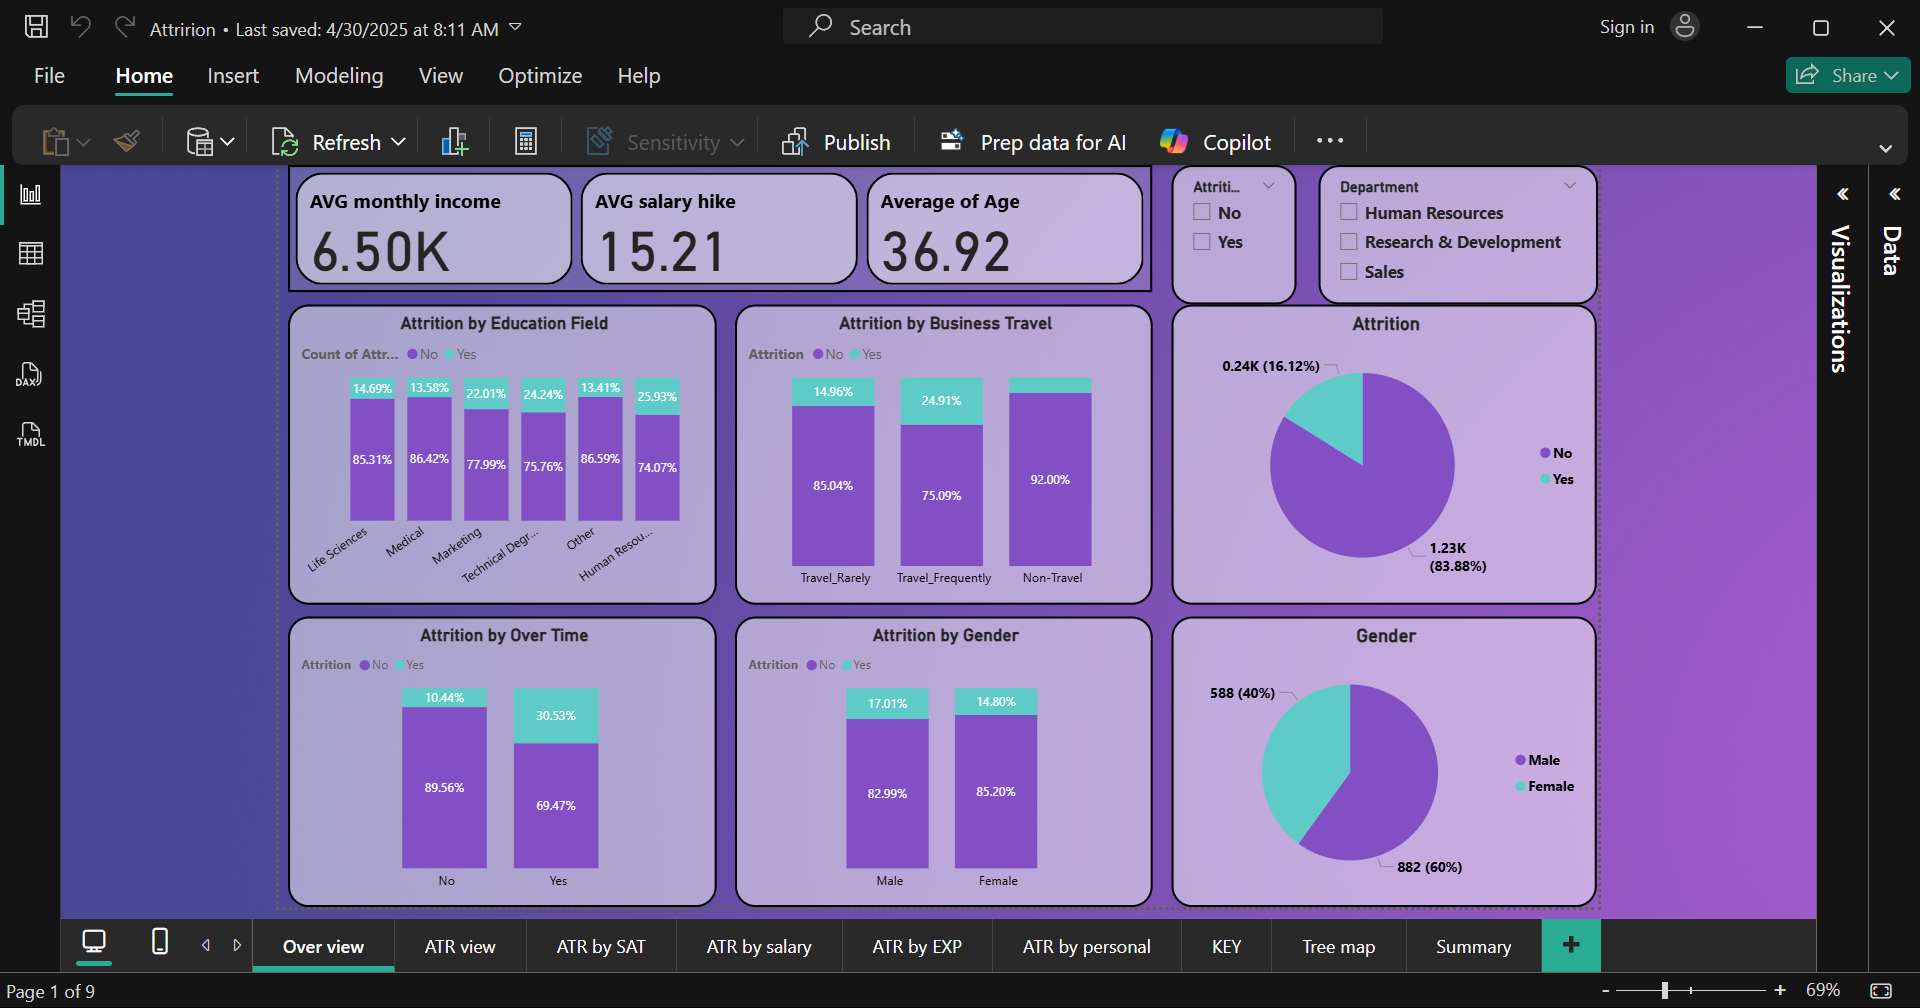

The page's visual inventory and layout, read from the dashboard file:
{"tool":"powerbi","page":{"name":"Over view","canvas":[1280,720],"ordinal":0},"visuals":[{"type":"cardVisual","fields":{"Data":["Avg(clean data.MonthlyIncome)","Avg(clean data.PercentSalaryHike)","Avg(clean data.Age)"]},"box":[9.4,0,838.4,123.1],"z":0},{"type":"pieChart","title":"Attrition","fields":{"Category":["clean data.Attrition"],"Y":["CountNonNull(clean data.Attrition)"]},"box":[866.5,135.6,413,291.4],"z":1000},{"type":"pieChart","title":"Gender","fields":{"Category":["clean data.Gender"],"Y":["CountNonNull(clean data.Gender)"]},"box":[866.5,437.9,413,282.1],"z":2000},{"type":"hundredPercentStackedColumnChart","title":"Attrition by Business Travel","fields":{"Category":["clean data.BusinessTravel"],"Y":["CountNonNull(clean data.Attrition)"],"Series":["clean data.Attrition"]},"box":[442.6,135.6,405.2,291.4],"z":3000},{"type":"hundredPercentStackedColumnChart","title":"Attrition by Gender","fields":{"Category":["clean data.Gender"],"Y":["CountNonNull(clean data.Attrition)"],"Series":["clean data.Attrition"]},"box":[442.6,437.9,405.2,282.1],"z":4000},{"type":"hundredPercentStackedColumnChart","title":"Attrition by Education Field","fields":{"Category":["clean data.EducationField"],"Y":["CountNonNull(clean data.Attrition)"],"Series":["clean data.Attrition"]},"box":[9.4,135.6,416.1,291.4],"z":5000},{"type":"hundredPercentStackedColumnChart","title":"Attrition by Over Time","fields":{"Category":["clean data.OverTime"],"Y":["CountNonNull(clean data.Attrition)"],"Series":["clean data.Attrition"]},"box":[9,438,416,282],"z":6000},{"type":"slicer","fields":{"Values":["clean data.Attrition"]},"box":[866.5,0,121.6,135.6],"z":7000},{"type":"slicer","fields":{"Values":["clean data.Department"]},"box":[1008.3,0,271.2,135.6],"z":8000}]}

Visuals, with their boxes on the page's 1280x720 design canvas (x1, y1, x2, y2). These are canvas units, not pixel positions in the 1920x1008 screenshot, which may show the page scaled, cropped or inside an application window:
cardVisual - Avg(clean data.MonthlyIncome) x Avg(clean data.PercentSalaryHike): <region>9, 0, 848, 123</region>
"Attrition" pieChart: <region>866, 136, 1280, 427</region>
"Gender" pieChart: <region>866, 438, 1280, 720</region>
"Attrition by Business Travel" hundredPercentStackedColumnChart: <region>443, 136, 848, 427</region>
"Attrition by Gender" hundredPercentStackedColumnChart: <region>443, 438, 848, 720</region>
"Attrition by Education Field" hundredPercentStackedColumnChart: <region>9, 136, 426, 427</region>
"Attrition by Over Time" hundredPercentStackedColumnChart: <region>9, 438, 425, 720</region>
slicer - clean data.Attrition: <region>866, 0, 988, 136</region>
slicer - clean data.Department: <region>1008, 0, 1280, 136</region>
